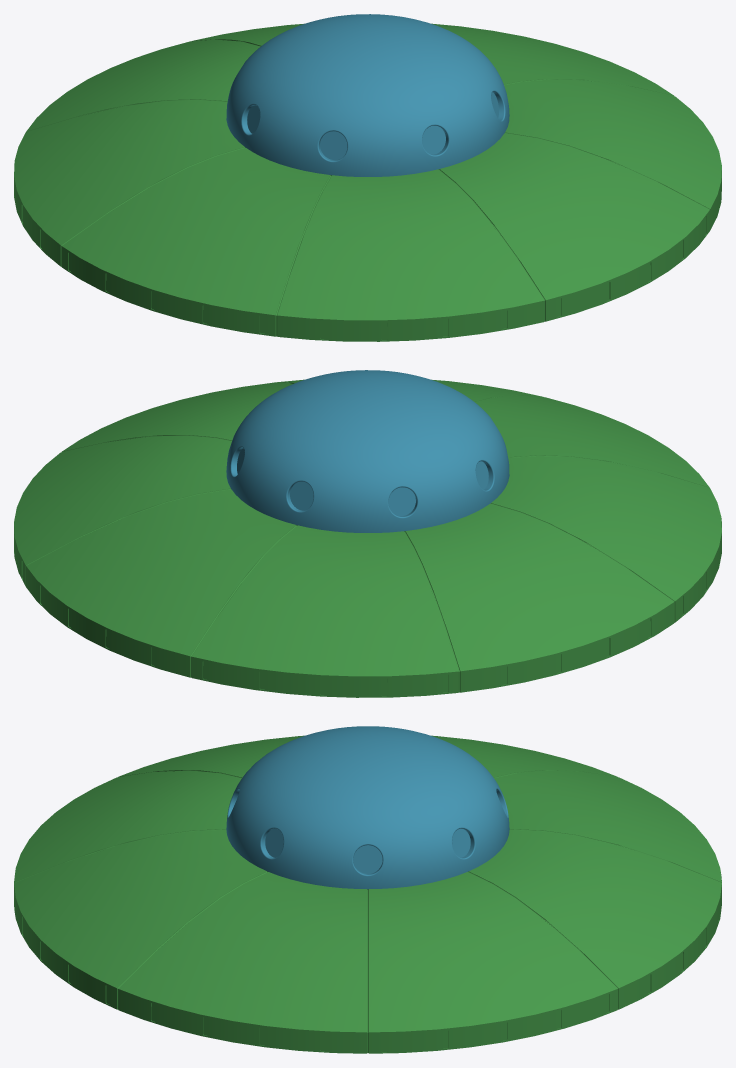
File: Player1.fbx
The picture shows the model from 3 angles, top to bottom: view 1: azimuth 30°, elevation 25°; view 2: azimuth 150°, elevation 25°; view 3: azimuth 270°, elevation 25°; orthographic projection.
Visible parts, largest first — view 1: Body2, Body1; view 2: Body2, Body1; view 3: Body2, Body1.
Boxes of the visible parts, x1,y1,x2,y2 form: Body2: (14,23,721,341); Body1: (226,14,509,176); Body2: (14,379,721,697); Body1: (226,370,509,532); Body2: (14,735,721,1053); Body1: (226,726,509,889).
Bounding box in the file's own units: 6000 × 2000 × 6000.
